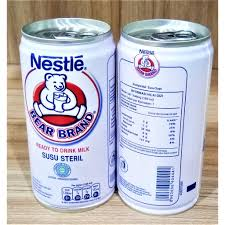Bear Brand Susu Steril (189ml): (14, 15, 115, 207), (119, 10, 208, 214)
